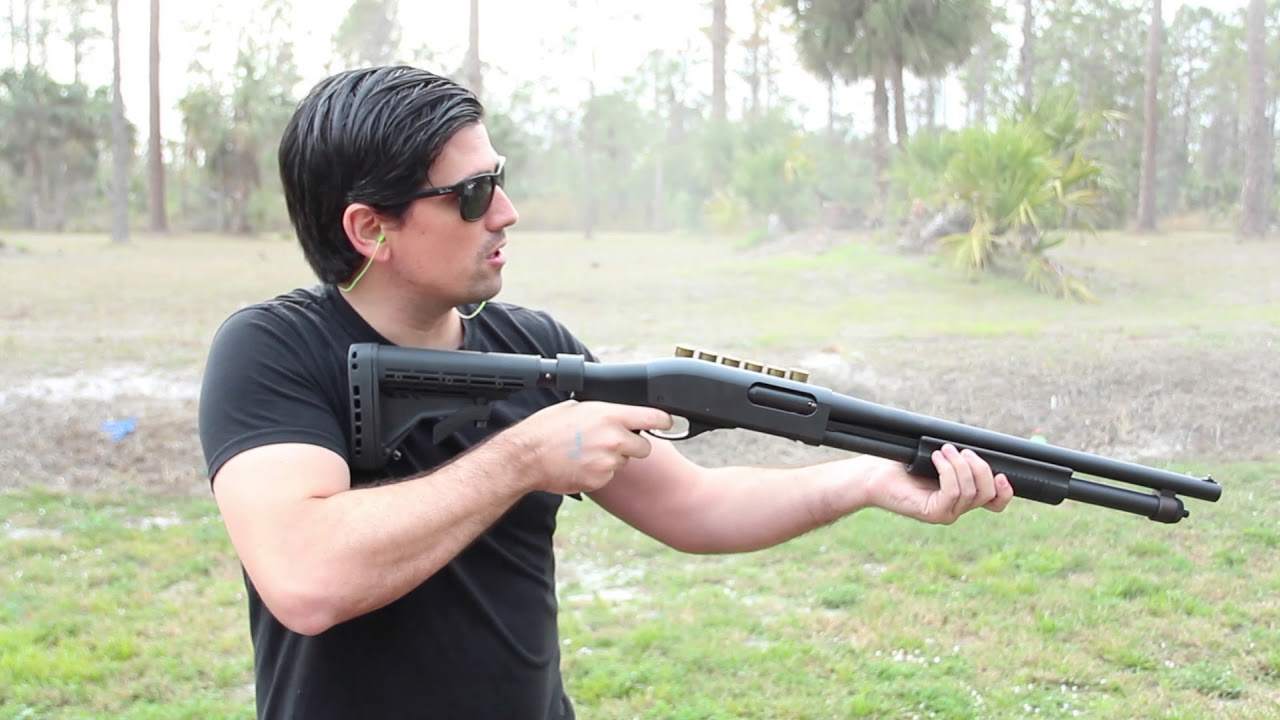weapon: (344, 342, 1222, 533)
